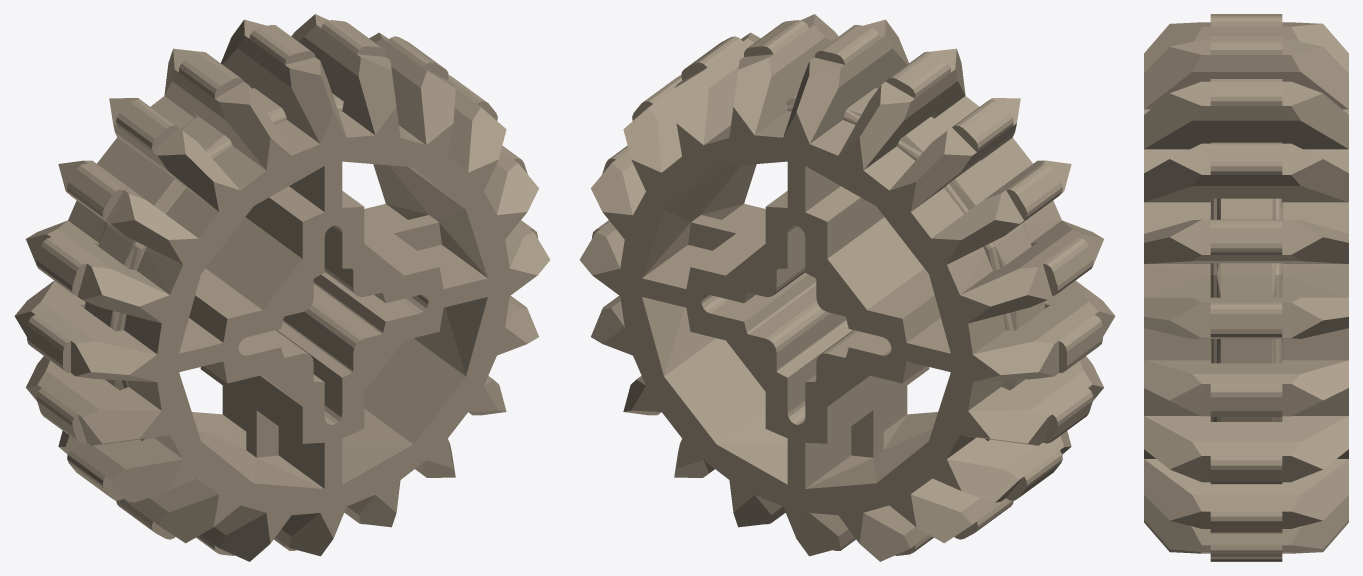
Rendered from Sand_4514555_AVV.fbx.
The picture shows the model from 3 angles, left to right: view 1: azimuth 30°, elevation 25°; view 2: azimuth 150°, elevation 25°; view 3: azimuth 270°, elevation 25°; orthographic projection.
Parts seen in each view (by area): view 1: Sand_4514555_AVV; view 2: Sand_4514555_AVV; view 3: Sand_4514555_AVV.
Part boxes in pixels (<box>): Sand_4514555_AVV: <box>14,14,550,561</box>; Sand_4514555_AVV: <box>579,14,1115,561</box>; Sand_4514555_AVV: <box>1144,14,1348,561</box>.
Size of the model in its own units: 2.15 by 2.15 by 0.8.
